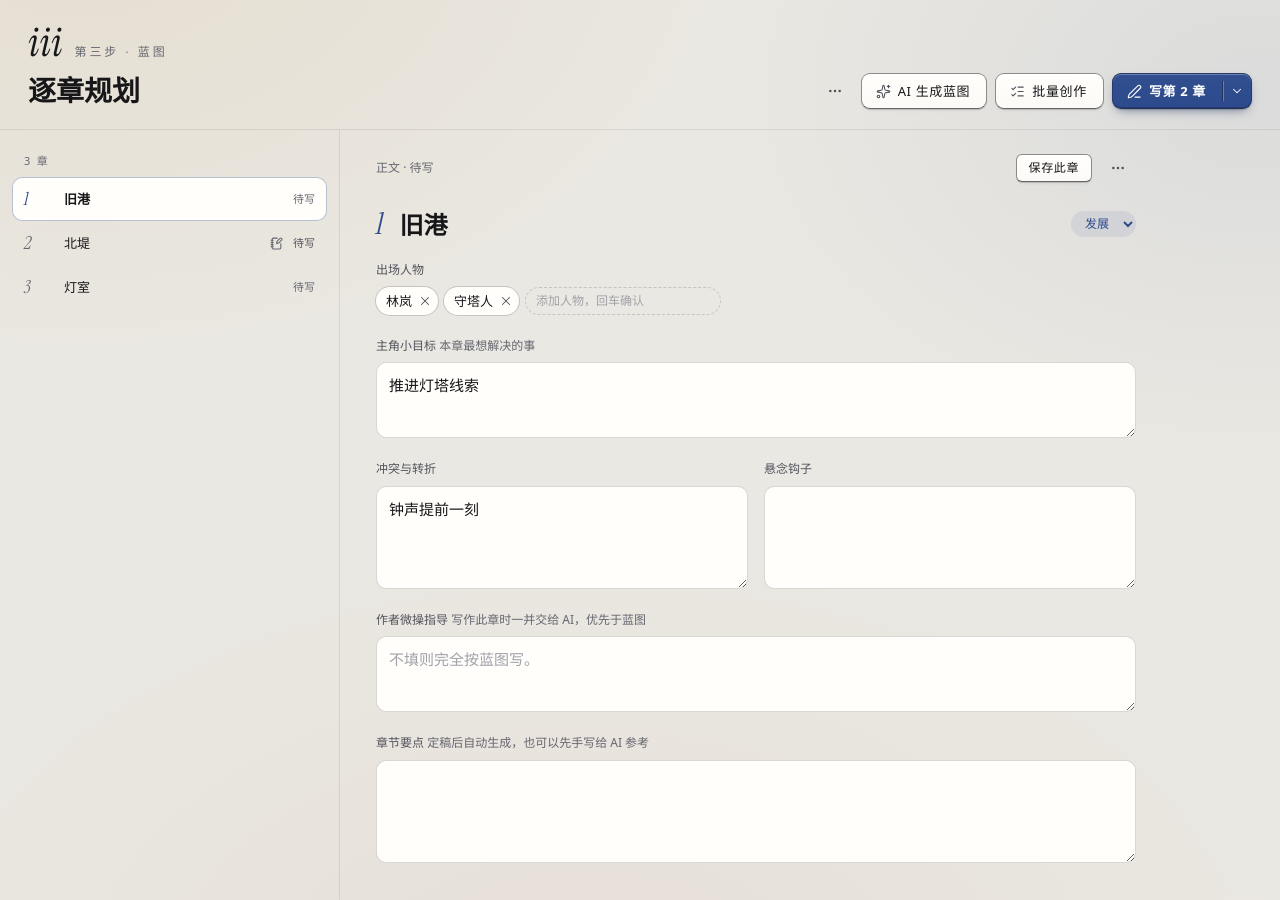
Test: 蓝图阶段 › 主按钮是写下一章的拆分按钮，点箭头只出现小弹层
Expected: the button "写第 2 章" is shown, x1=1112 y1=73 x2=1222 y2=109
What coordinates should you click on to do the following:
click the button named "本次写作选项"
I would click on:
 (1237, 91)
Its box is x1=1222 y1=73 x2=1252 y2=109.
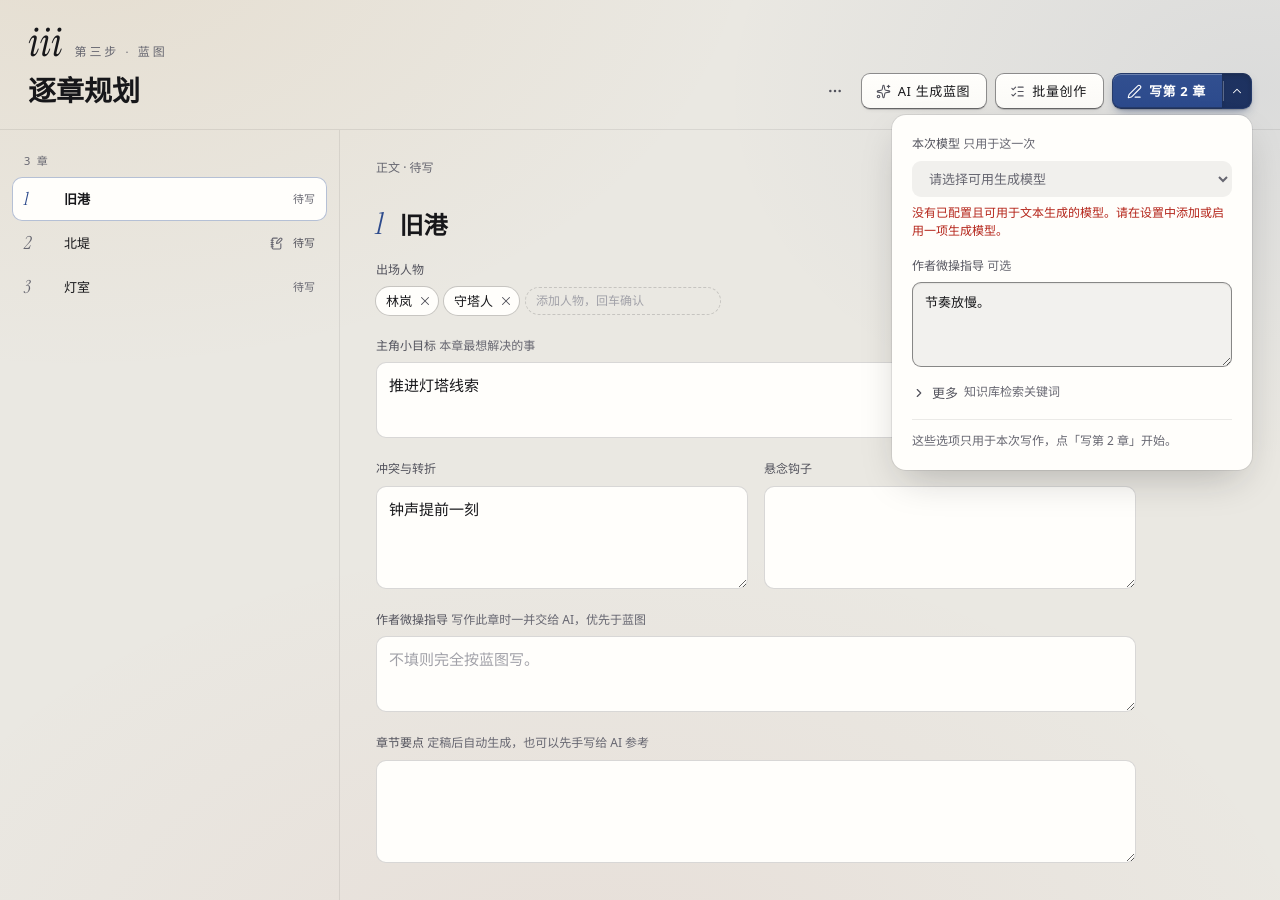
Expected: the number of dialogs is 1, x1=892 y1=115 x2=1252 y2=470
